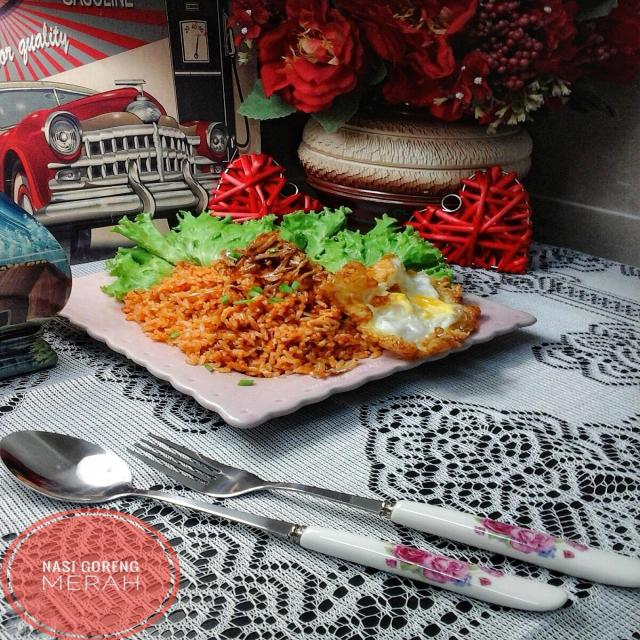Nasi Goreng: (119, 254, 422, 391)
